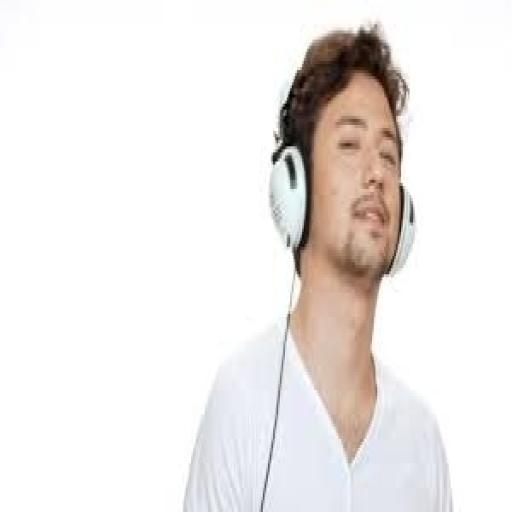listening_to_music: (181, 21, 456, 509)
